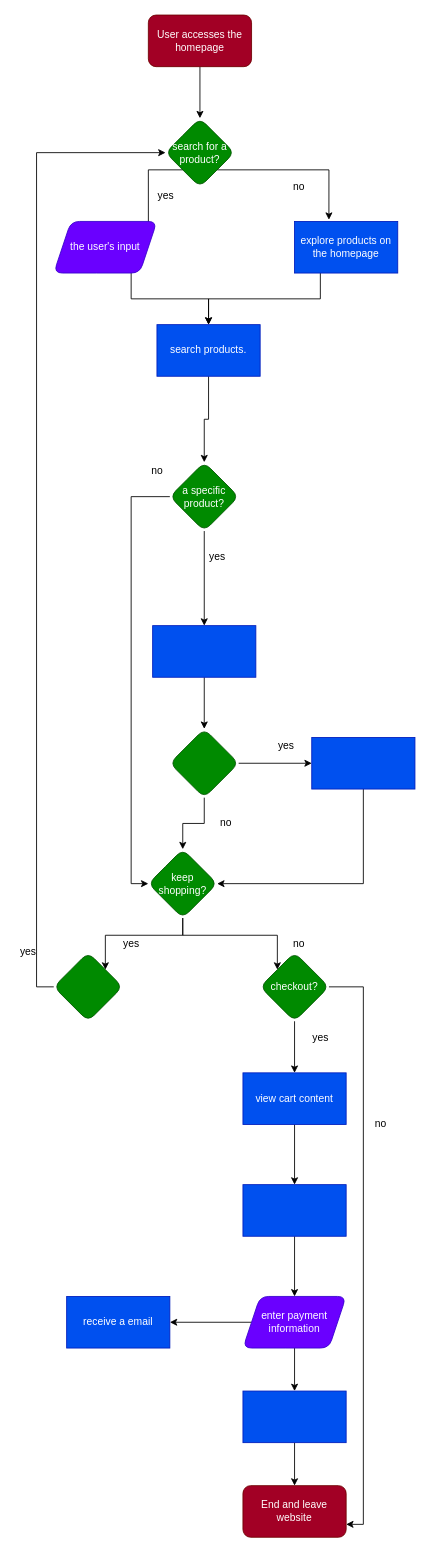
This 430x1552 diagram has some shape labels left out. The centre of each missing label's shape, as x and y in pixels:
add cart confirmation: (363,763)
item to cart?: (204,763)
open the prouct's page: (204,651)
order confirmation: (294,1416)
search new product?: (88,986)
view payment: (294,1210)
